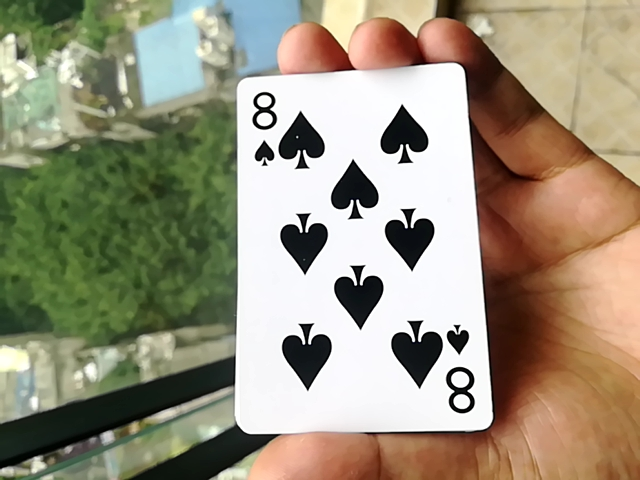ht 8: (234, 57, 477, 446)
